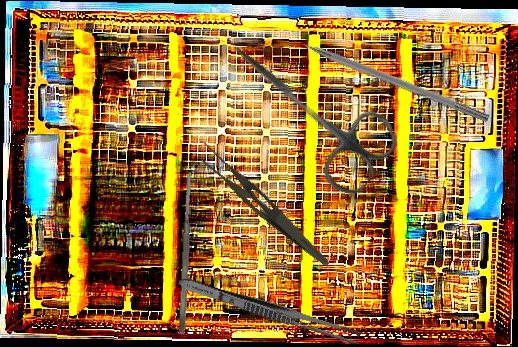Dressing Forceps: (188, 139, 343, 269), (175, 273, 364, 347)
Iris Scissors: (204, 16, 407, 203)
Pusher: (275, 26, 491, 124)
Spatula Surgical: (177, 169, 195, 336)
